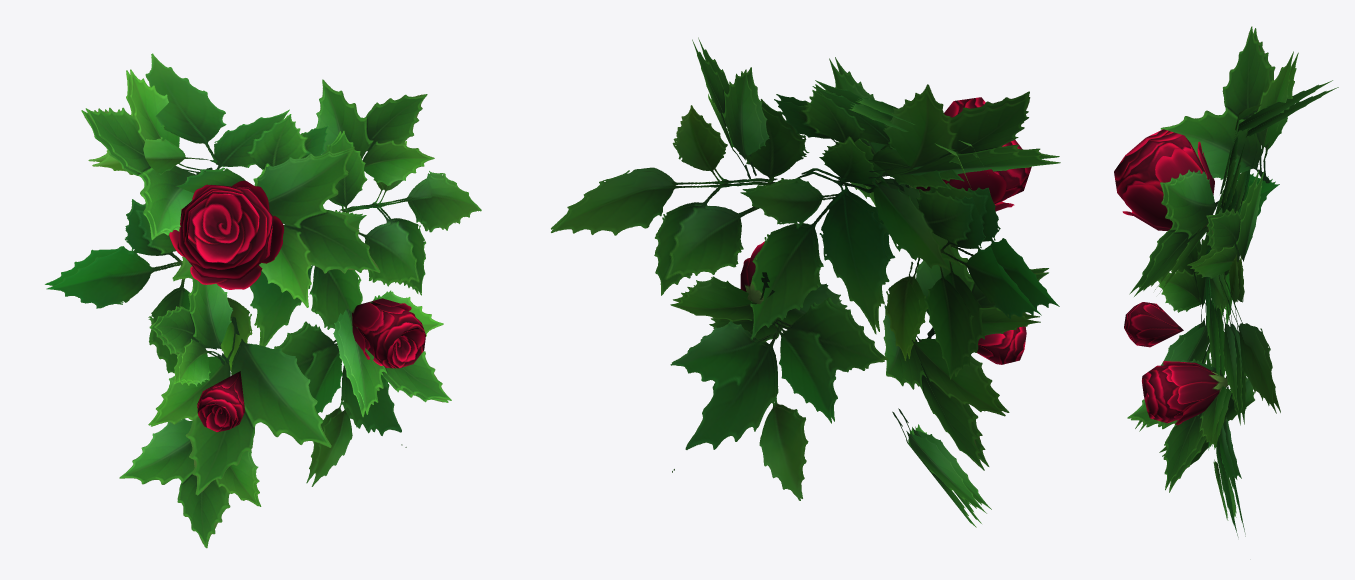
File: SE_Rose_16.fbx
The picture shows the model from 3 angles, left to right: view 1: azimuth 30°, elevation 25°; view 2: azimuth 150°, elevation 25°; view 3: azimuth 270°, elevation 25°; orthographic projection. The views are drawn at different scales.
Visible parts, largest first — view 1: SE_Rose_16; view 2: SE_Rose_16; view 3: SE_Rose_16.
Boxes of the visible parts, box(x1,y1,x2,y2) form: SE_Rose_16: box(45, 53, 481, 548); SE_Rose_16: box(551, 37, 1060, 527); SE_Rose_16: box(1114, 26, 1338, 537).
Size of the model in its own units: 2.96 by 2.85 by 1.27.
